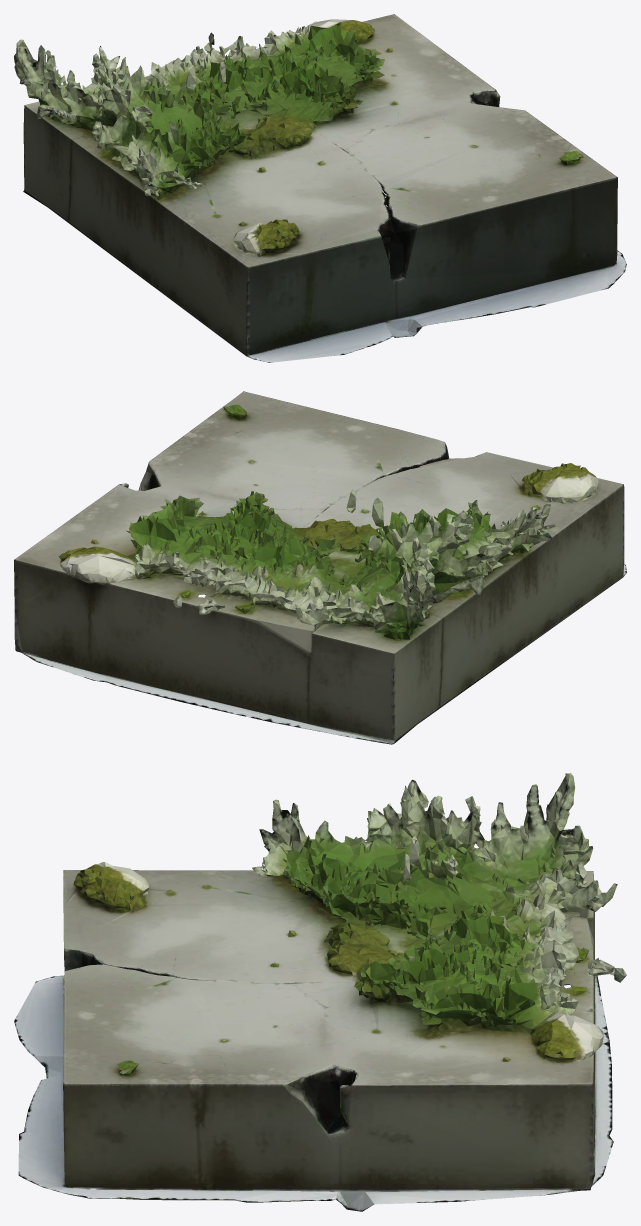
File: generated_slab_broken_b.glb
The picture shows the model from 3 angles, top to bottom: view 1: azimuth 30°, elevation 25°; view 2: azimuth 150°, elevation 25°; view 3: azimuth 270°, elevation 25°; orthographic projection. The views are drawn at different scales.
Parts seen in each view (by area): view 1: geometry_0; view 2: geometry_0; view 3: geometry_0.
Boxes of the visible parts, x1,y1,x2,y2 form: geometry_0: (14, 14, 626, 362); geometry_0: (14, 391, 626, 744); geometry_0: (14, 773, 626, 1211).
Bounding box in the file's own units: 0.9426 × 0.3886 × 0.9951.
1 material, 1 textured.
